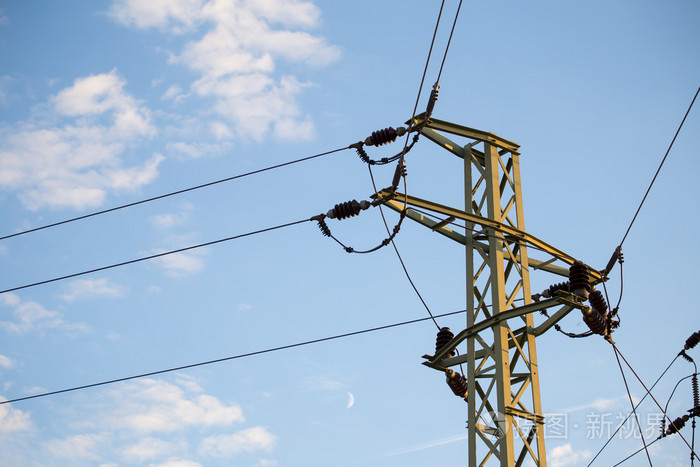insulator: (569, 262, 592, 291), (333, 197, 359, 219), (447, 371, 467, 399), (369, 128, 398, 146), (433, 329, 453, 351), (590, 292, 609, 313)
